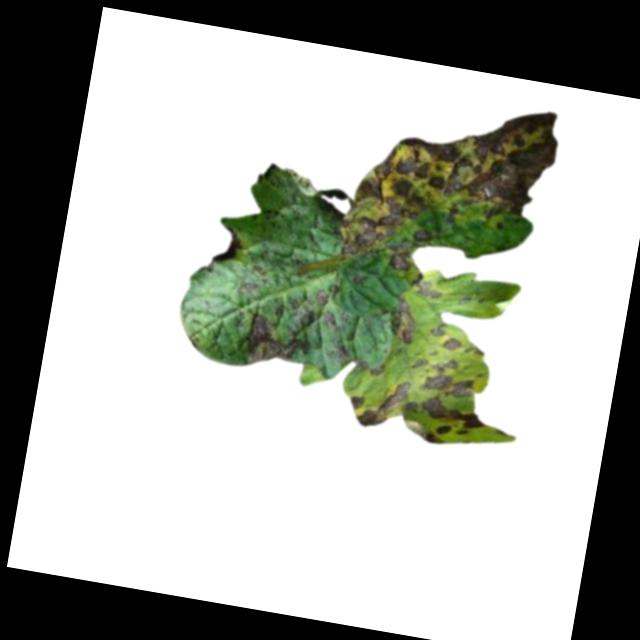Early_blight: (337, 80, 563, 280), (243, 300, 313, 376), (402, 391, 488, 451), (345, 370, 410, 432), (406, 350, 481, 402), (385, 293, 422, 348), (212, 224, 245, 268), (428, 322, 464, 353), (413, 278, 444, 303), (387, 253, 413, 275), (332, 341, 352, 364), (314, 288, 331, 309), (322, 313, 340, 328)
